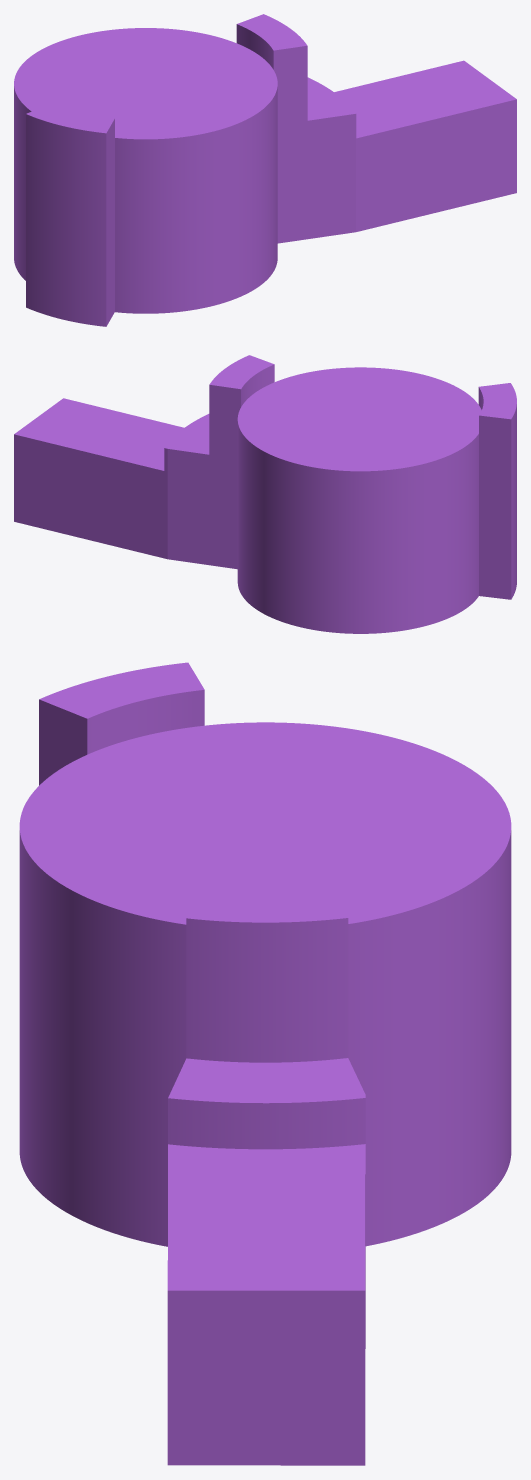
Rendered from zotov bounding box.glb.
3 renders of one model, top to bottom at view 1: azimuth 30°, elevation 25°; view 2: azimuth 150°, elevation 25°; view 3: azimuth 270°, elevation 25°, orthographic. The views are drawn at different scales.
Visible parts, largest first — view 1: outline; view 2: outline; view 3: outline.
Part boxes in pixels (box(x1,y1,x2,y2)): outline: box(14, 14, 516, 326); outline: box(14, 355, 516, 633); outline: box(19, 662, 511, 1465).
Bounding box in the file's own units: 1.58 × 0.6028 × 0.744.
